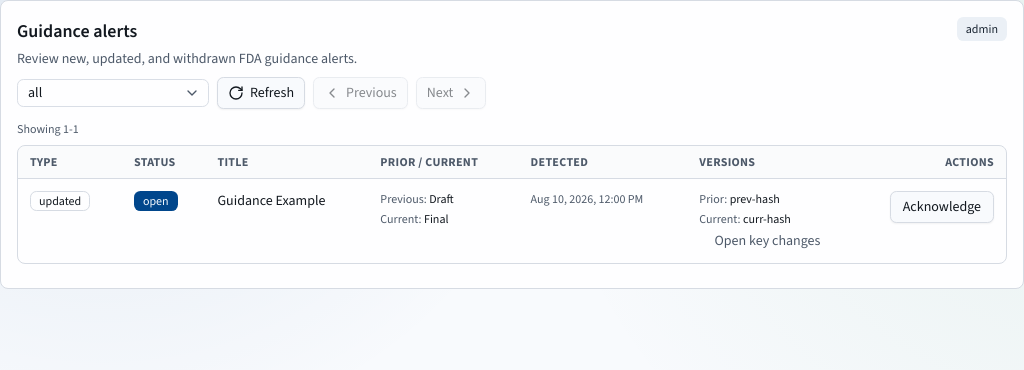
AlertsWorkspace › removes stale controls after a rejected transition
What coordinates should you click on to do the following:
click the button "Acknowledge"
I would click on:
 (942, 207)
Its box is [890,191,994,223].
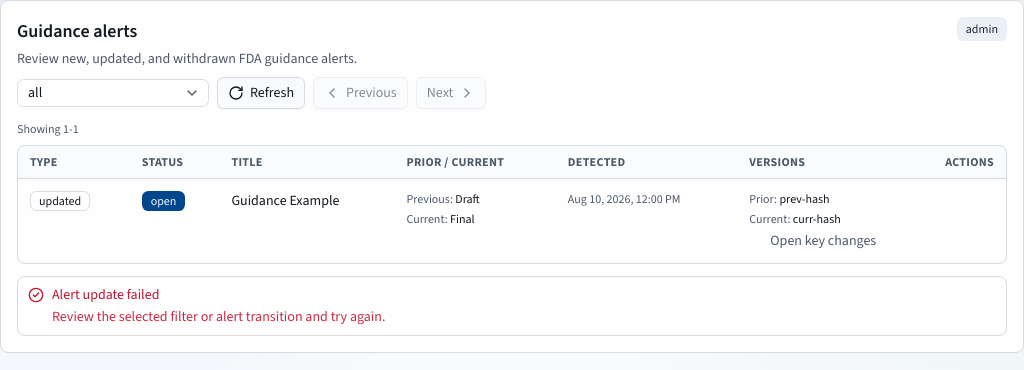
Check: the text "Alert update failed" is shown, box [52,285,159,304]
Check: no buttons "Acknowledge" are shown
